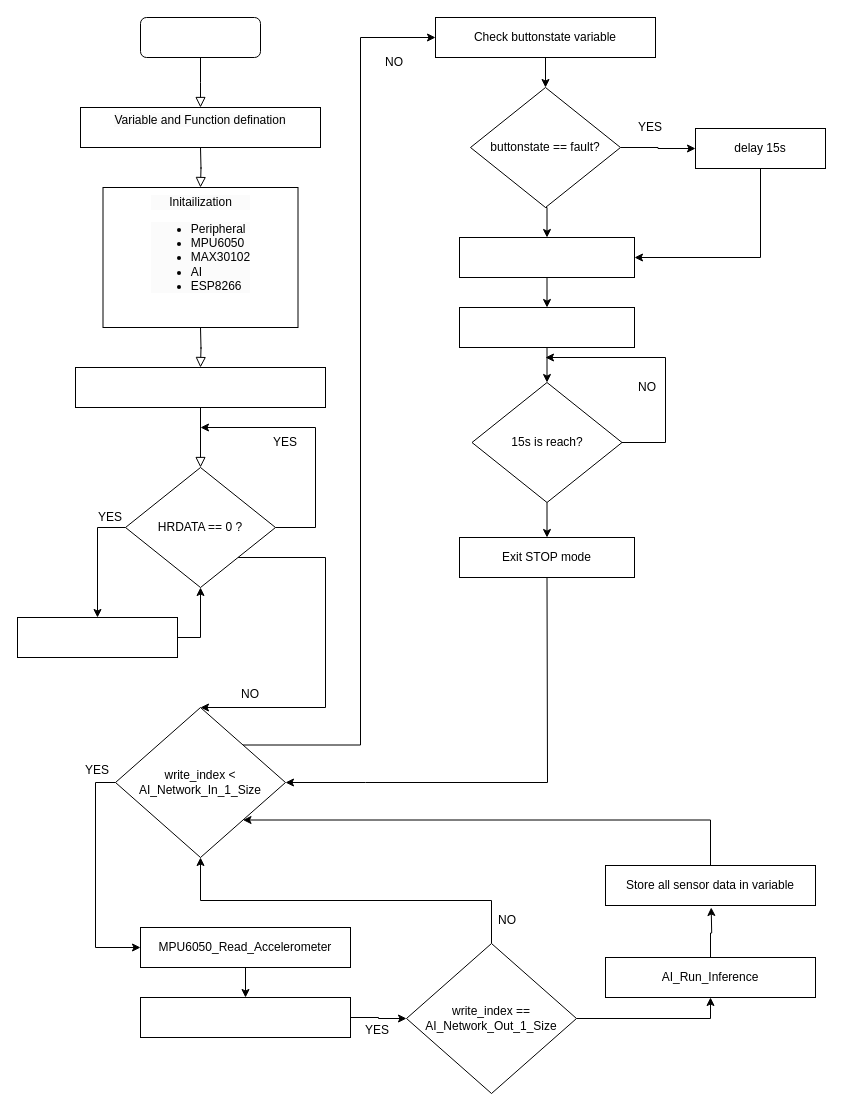
Some shapes in this 843 by 1111 pixel diagram are drawn without their labels. Here are the shapes that lost their labels. From the top down, the centre of each, then its label:
At pixel 200 37: "Start".
At pixel 546 257: "Push data to thingspeak".
At pixel 546 327: "Enter STOP mode".
At pixel 200 387: "MAX30102 Calibration".
At pixel 97 637: "MAX30102_PollingRoutine".
At pixel 245 1017: "MPU6050_Polling_Routine".
